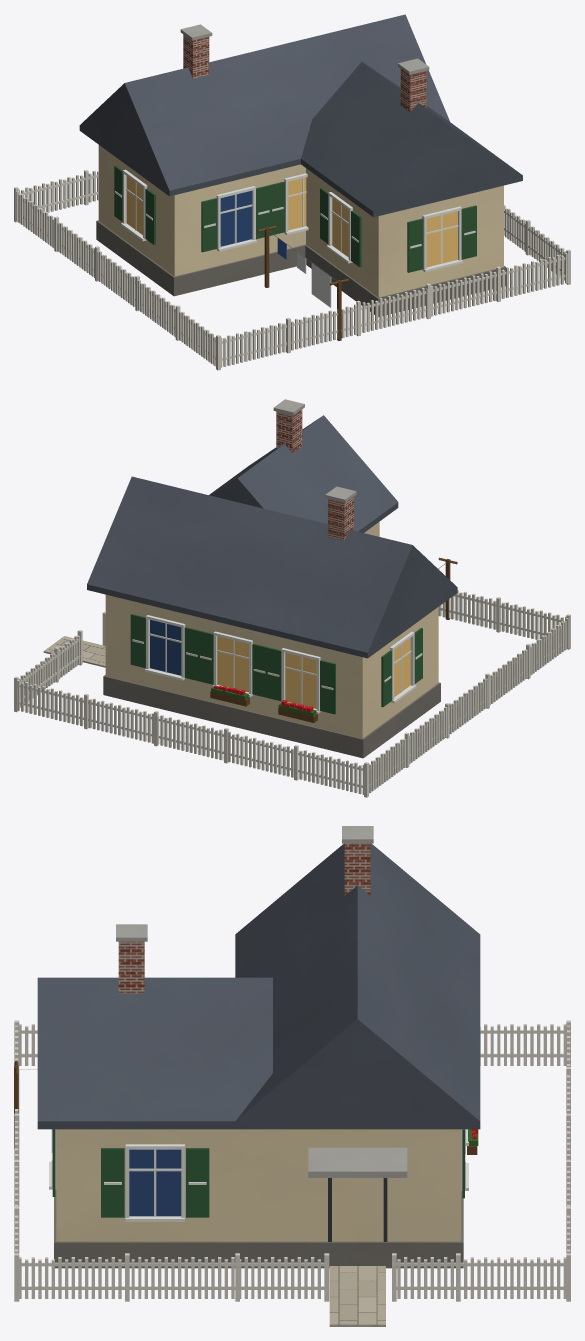
The model's file is dum_06_mestske_2.glb.
3 renders of one model, top to bottom at view 1: azimuth 30°, elevation 25°; view 2: azimuth 150°, elevation 25°; view 3: azimuth 270°, elevation 25°, orthographic. The views are drawn at different scales.
Parts seen in each view (by area): view 1: dum, noc; view 2: dum, noc; view 3: dum.
Part boxes in pixels (left/top/right/bottom): dum: left=14, top=14, right=570, bottom=370; noc: left=126, top=176, right=457, bottom=267; dum: left=14, top=399, right=570, bottom=797; noc: left=217, top=636, right=410, bottom=708; dum: left=14, top=826, right=570, bottom=1326.
Size of the model in its own units: 13.06 by 7.08 by 11.8.
1 material, 1 textured.
